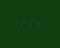nine: (33, 20, 39, 28)
three: (26, 19, 32, 28)
two: (18, 19, 24, 27)
